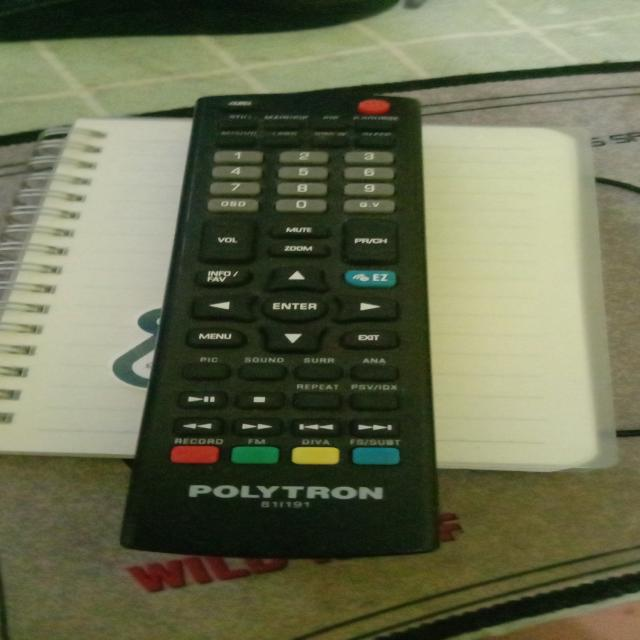remote: (121, 88, 446, 554)
